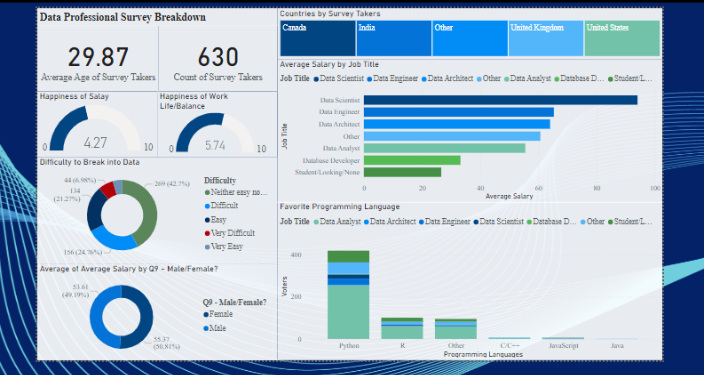

What the dashboard file says about the page in this screenshot:
{"tool":"powerbi","page":{"name":"Page 1","canvas":[1280,720],"ordinal":0},"visuals":[{"type":"barChart","title":" Average Salary by Job Title","fields":{"Y":["Avg(Data Professional Survey.Average Salary)"],"Category":["Data Professional Survey.Q1 - Which Title Best Fits your Current Role?.1"],"Series":["Data Professional Survey.Q1 - Which Title Best Fits your Current Role?.1"]},"box":[491.7,103.3,788.3,293.3],"z":0},{"type":"columnChart","title":" Favorite Programming Language","fields":{"Y":["CountNonNull(Data Professional Survey.Q5 - Favorite Programming Language.1)"],"Category":["Data Professional Survey.Q5 - Favorite Programming Language.1"],"Series":["Data Professional Survey.Q1 - Which Title Best Fits your Current Role?.1"]},"box":[491.7,396.7,788.3,323.3],"z":1000},{"type":"treemap","fields":{"Group":["Data Professional Survey.Q11 - Which Country do you live in?.1"],"Values":["Count(Data Professional Survey.Q11 - Which Country do you live in?.1)"]},"box":[491.7,0,788.3,103.3],"z":2000},{"type":"gauge","title":"Happiness of Work Life/Balance","fields":{"MaxValue":["Max(Data Professional Survey.Q6 - How Happy are you in your Current Position with the following? (Work/Life Balance))1"],"Y":["Avg(Data Professional Survey.Q6 - How Happy are you in your Current Position with the following? (Work/Life Balance))"],"MinValue":["Min(Data Professional Survey.Q6 - How Happy are you in your Current Position with the following? (Work/Life Balance))"]},"box":[246.7,170,245,133.3],"z":3000},{"type":"gauge","title":"Happiness of Salay","fields":{"Y":["Avg(Data Professional Survey.Q6 - How Happy are you in your Current Position with the following? (Salary))"],"MinValue":["Min(Data Professional Survey.Q6 - How Happy are you in your Current Position with the following? (Salary))"],"MaxValue":["Max(Data Professional Survey.Q6 - How Happy are you in your Current Position with the following? (Salary))"]},"box":[0,170,246.7,133.3],"z":4000},{"type":"donutChart","fields":{"Category":["Data Professional Survey.Q9 - Male/Female?"],"Y":["Avg(Data Professional Survey.Average Salary)"]},"box":[0,521.7,491.7,198.3],"z":5000},{"type":"card","fields":{"Values":["Count(Data Professional Survey.Unique ID)"]},"box":[248.3,36.7,243.3,133.3],"z":6000},{"type":"card","fields":{"Values":["Avg(Data Professional Survey.Q10 - Current Age)"]},"box":[0,36.7,248.3,133.3],"z":7000},{"type":"donutChart","title":"Difficulty to Break into Data","fields":{"Category":["Data Professional Survey.Q7 - How difficult was it for you to break into Data?"],"Y":["CountNonNull(Data Professional Survey.Q7 - How difficult was it for you to break into Data?)"]},"box":[0,303.3,491.7,218.3],"z":8000},{"type":"textbox","box":[0,0,491.7,36.7],"z":9000}]}

Visuals, with their boxes on the page's 1280x720 design canvas (x1, y1, x2, y2). These are canvas units, not pixel positions in the 704x375 screenshot, which may show the page scaled, cropped or inside an application window:
" Average Salary by Job Title" barChart: {"left": 492, "top": 103, "right": 1280, "bottom": 397}
" Favorite Programming Language" columnChart: {"left": 492, "top": 397, "right": 1280, "bottom": 720}
treemap - Data Professional Survey.Q11 - Which Country do you live in?.1 x Count(Data Professional Survey.Q11 - Which Country do you live in?.1): {"left": 492, "top": 0, "right": 1280, "bottom": 103}
"Happiness of Work Life/Balance" gauge: {"left": 247, "top": 170, "right": 492, "bottom": 303}
"Happiness of Salay" gauge: {"left": 0, "top": 170, "right": 247, "bottom": 303}
donutChart - Data Professional Survey.Q9 - Male/Female? x Avg(Data Professional Survey.Average Salary): {"left": 0, "top": 522, "right": 492, "bottom": 720}
card - Count(Data Professional Survey.Unique ID): {"left": 248, "top": 37, "right": 492, "bottom": 170}
card - Avg(Data Professional Survey.Q10 - Current Age): {"left": 0, "top": 37, "right": 248, "bottom": 170}
"Difficulty to Break into Data" donutChart: {"left": 0, "top": 303, "right": 492, "bottom": 522}
textbox: {"left": 0, "top": 0, "right": 492, "bottom": 37}
